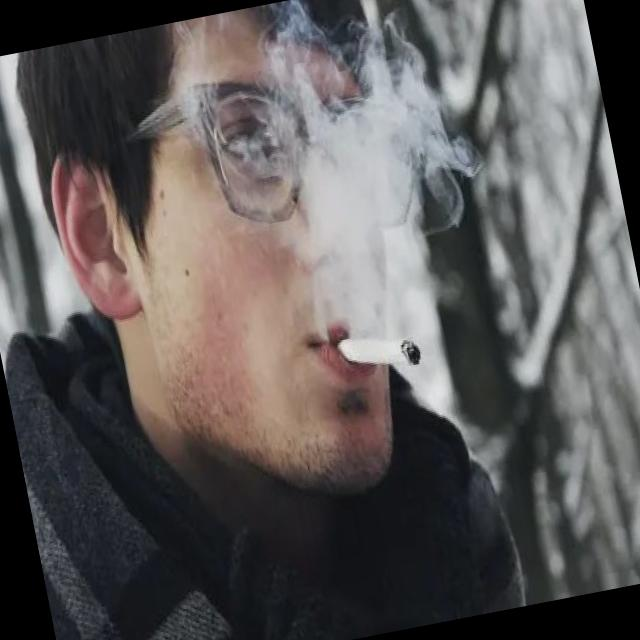cigarette: (334, 319, 429, 389)
